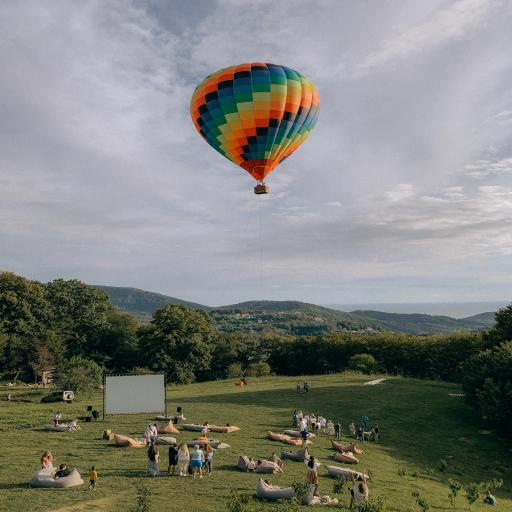hot air ballon: (189, 62, 320, 195)
